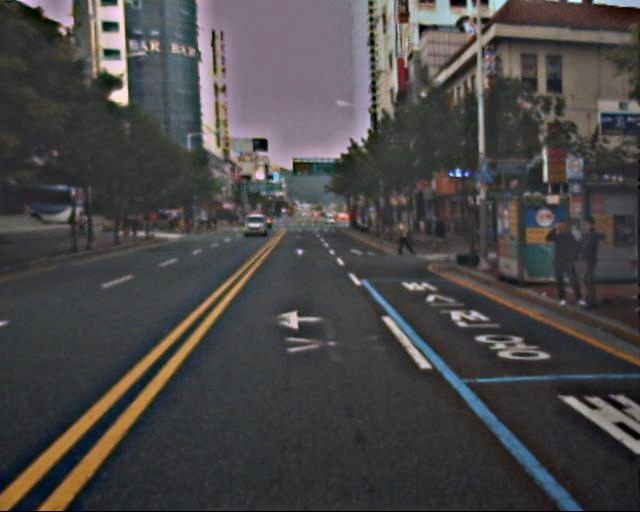person: (565, 215, 610, 309), (542, 222, 583, 312), (395, 217, 413, 262)
